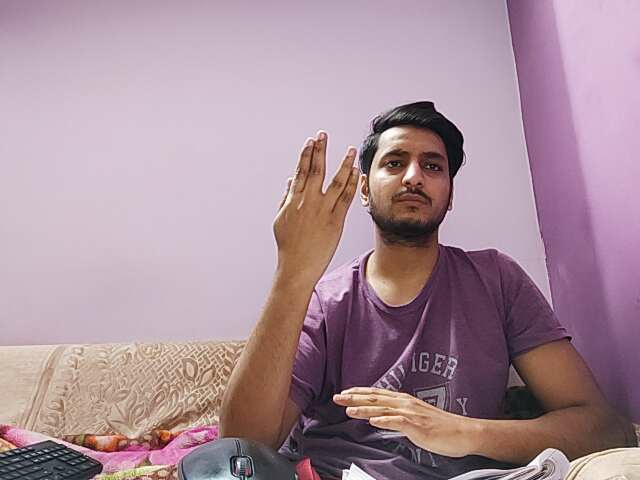LiveLong: (268, 137, 366, 285)
